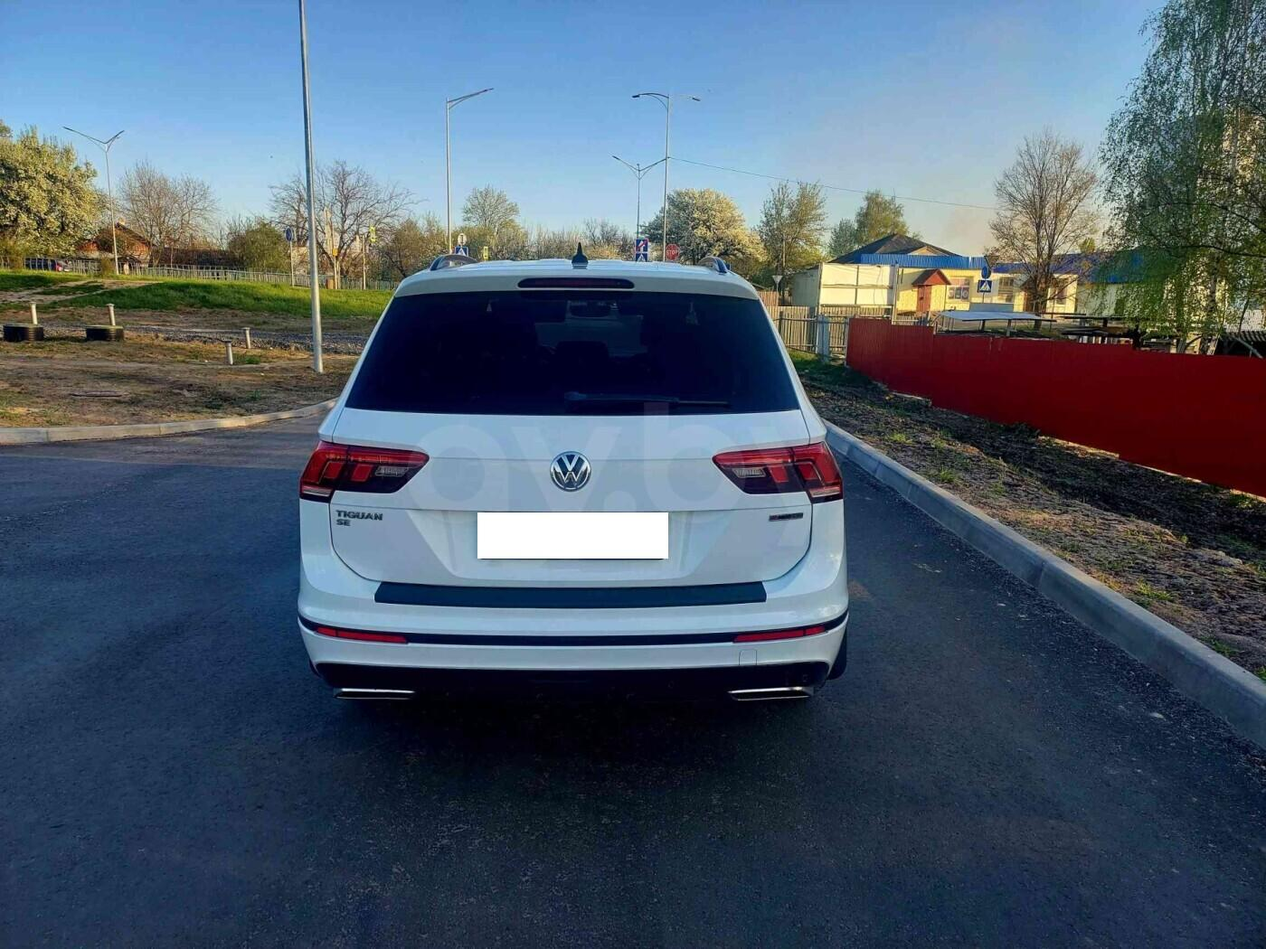Tiguan_2016-2021: (288, 249, 864, 719)
